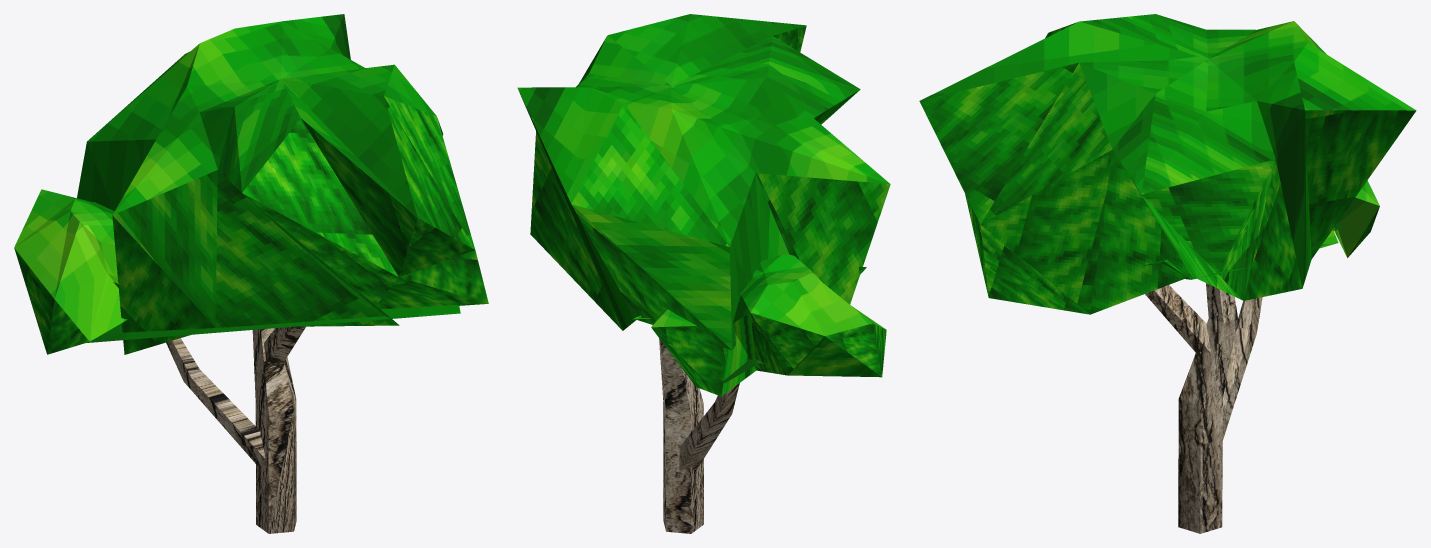
Rendered from дерево.fbx.
3 views of the same model, side by side, from view 1: azimuth 30°, elevation 25°; view 2: azimuth 150°, elevation 25°; view 3: azimuth 270°, elevation 25° (orthographic). The views are drawn at different scales.
Parts seen in each view (by area): view 1: leaves.001, trunks; view 2: leaves.001, trunks; view 3: leaves.001, trunks.
Boxes of the visible parts, x1,y1,x2,y2 form: leaves.001: [14, 14, 488, 354]; trunks: [166, 326, 305, 533]; leaves.001: [517, 14, 890, 396]; trunks: [659, 338, 739, 533]; leaves.001: [919, 14, 1416, 314]; trunks: [1145, 283, 1262, 533].
Size of the model in its own units: 16881 by 20484 by 18928.
